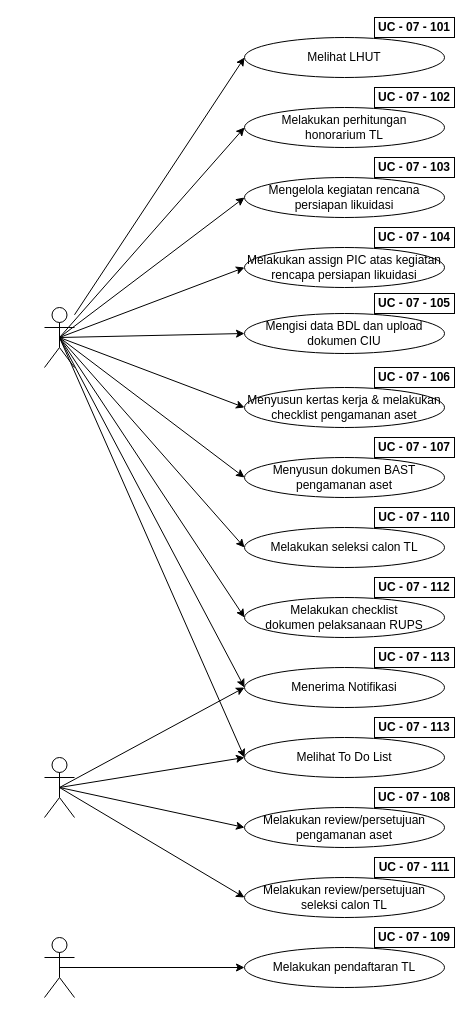
Image size: 472x1036. Some labels were removed from this diagram. The shapes that lost their labels are listed below. From the top down, each one's centre as x and y in pixels, then its label:
[59,337]: Pelaksana Likuidasi
[59,787]: Kadiv, DG & DE
[59,967]: Calon TL
